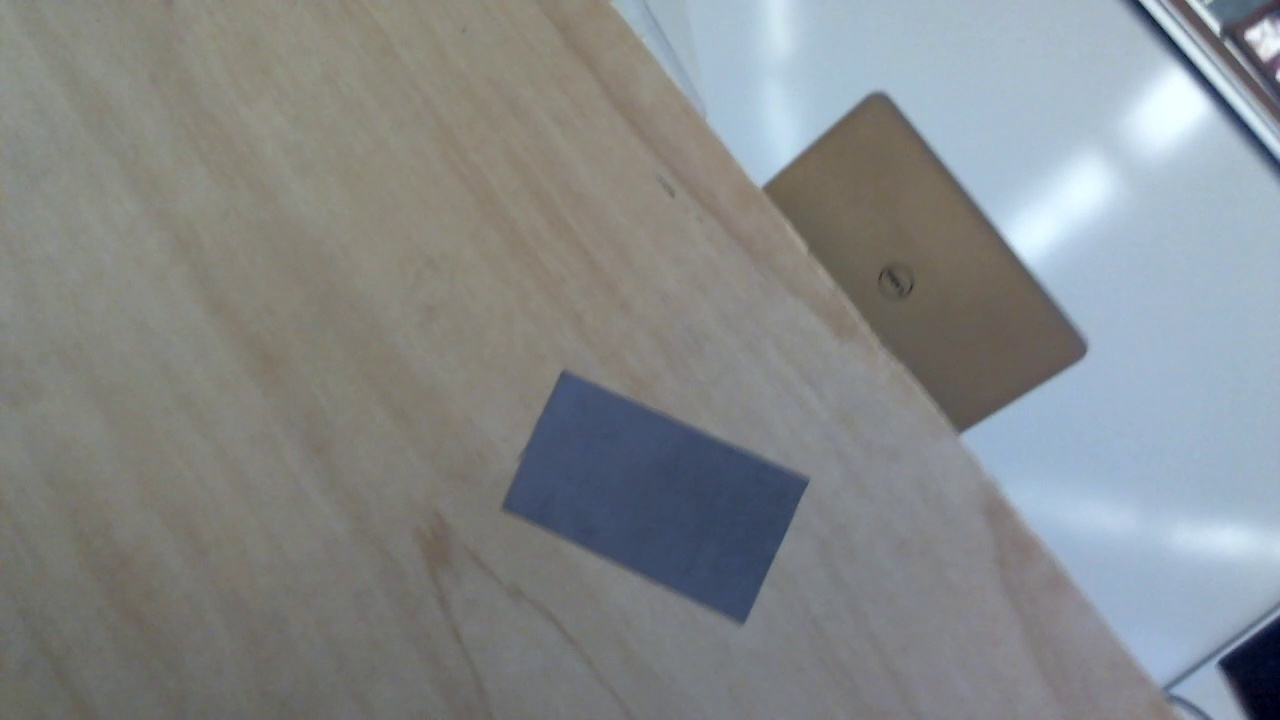Tape: (500, 372, 812, 628)
